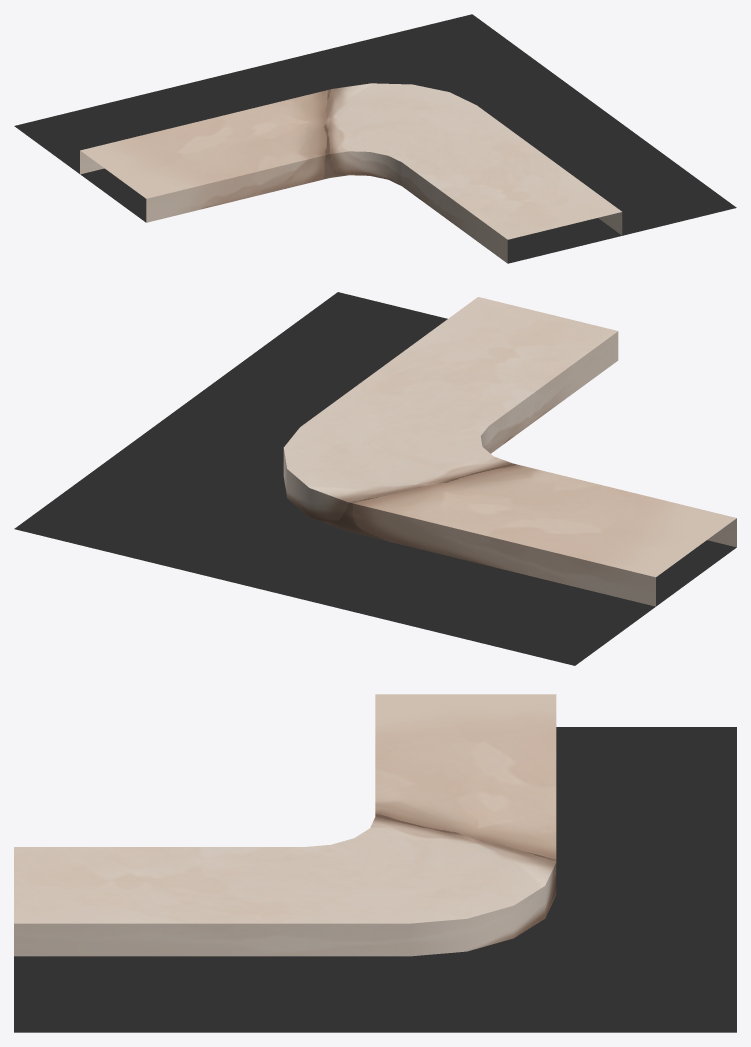
File: Rock_Inner.fbx
The picture shows the model from 3 angles, top to bottom: view 1: azimuth 30°, elevation 25°; view 2: azimuth 150°, elevation 25°; view 3: azimuth 270°, elevation 25°; orthographic projection. The views are drawn at different scales.
Visible parts, largest first — view 1: Rock_Inner; view 2: Rock_Inner; view 3: Rock_Inner.
Boxes of the visible parts, x1=… form: Rock_Inner: x1=14, y1=14, x2=736, y2=263; Rock_Inner: x1=14, y1=292, x2=736, y2=665; Rock_Inner: x1=14, y1=694, x2=736, y2=1032.
Bounding box in the file's own units: 100 × 5 × 100.
